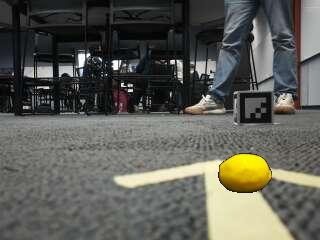lemon: (220, 154, 271, 192)
